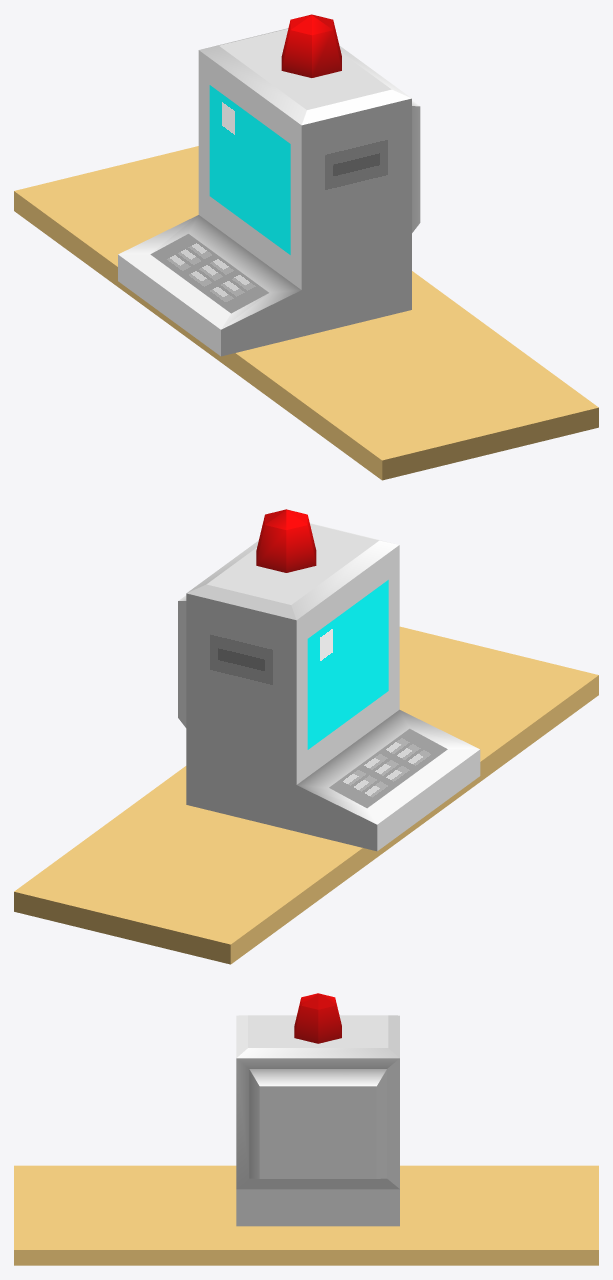
3 renders of one model, top to bottom at view 1: azimuth 30°, elevation 25°; view 2: azimuth 150°, elevation 25°; view 3: azimuth 270°, elevation 25°, orthographic. The views are drawn at different scales.
Visible parts, largest first — view 1: machine_pc01; view 2: machine_pc01; view 3: machine_pc01.
Boxes of the visible parts, box(x1,y1,x2,y2) form: machine_pc01: box(14, 14, 598, 480); machine_pc01: box(14, 509, 598, 964); machine_pc01: box(14, 993, 598, 1265).
Size of the model in its own units: 1.17 by 1.38 by 3.12.
2 materials, 2 textured.
